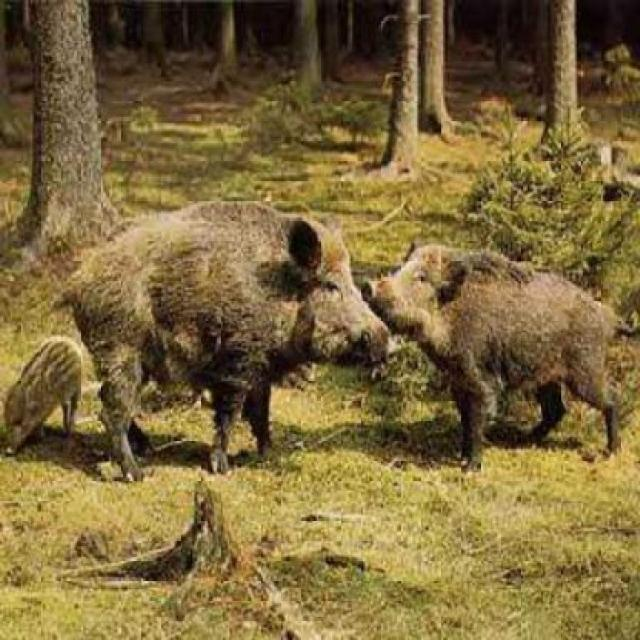Boar: (68, 175, 418, 476), (370, 243, 638, 500)
